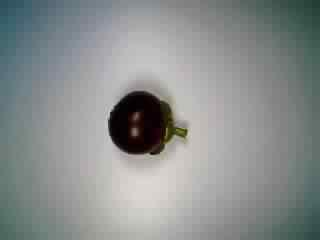mangosteen: (106, 86, 189, 162)
